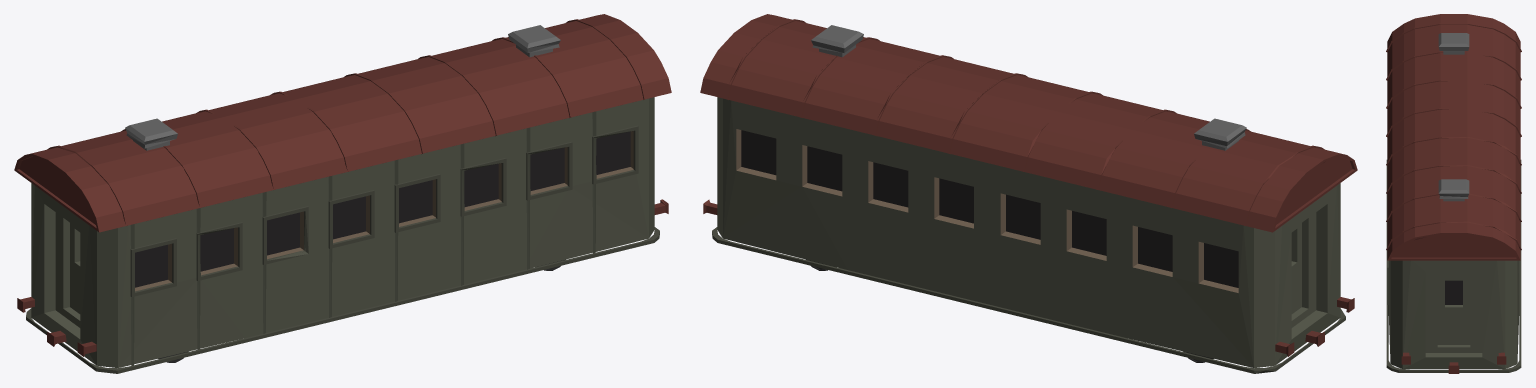
Rendered from loco_wagon.glb.
3 views of the same model, side by side, from view 1: azimuth 30°, elevation 25°; view 2: azimuth 150°, elevation 25°; view 3: azimuth 270°, elevation 25° (orthographic). The views are drawn at different scales.
Visible parts, largest first — view 1: Locomotive_PassengerWagon; view 2: Locomotive_PassengerWagon; view 3: Locomotive_PassengerWagon.
Part boxes in pixels (x1,y1,x2,y2): Locomotive_PassengerWagon: (14, 14, 671, 373); Locomotive_PassengerWagon: (700, 14, 1357, 373); Locomotive_PassengerWagon: (1386, 14, 1521, 373).
Size of the model in its own units: 8.06 by 2.95 by 2.07.
